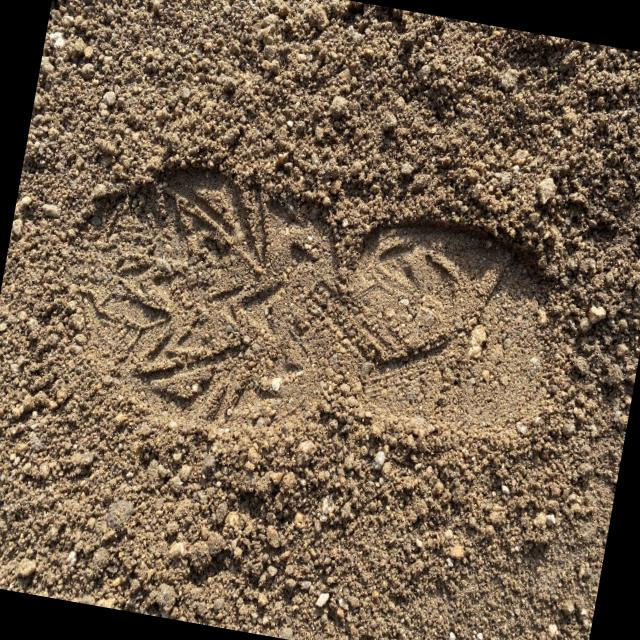human_foot_print: (26, 146, 583, 531)
